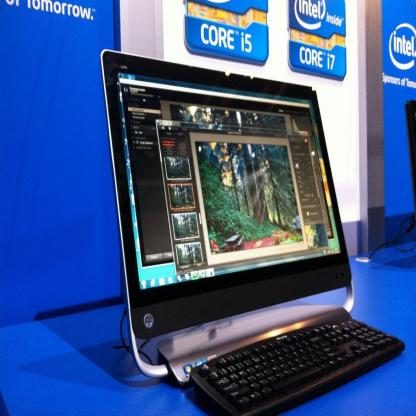board: (103, 74, 397, 416)
